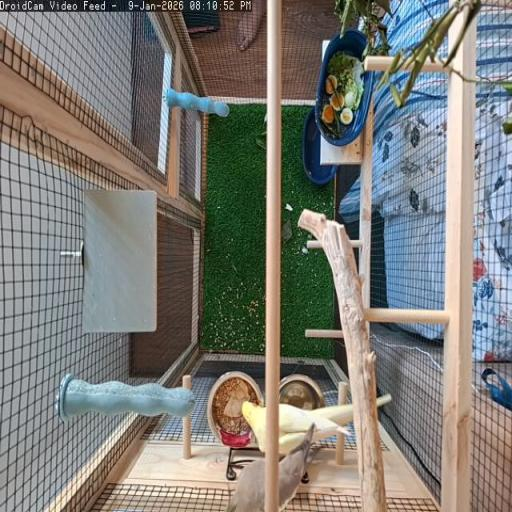bebedero: (280, 374, 325, 409)
comedero: (207, 371, 262, 447)
ninfa: (278, 403, 353, 454), (278, 426, 318, 511), (226, 460, 267, 511), (242, 401, 273, 451)
